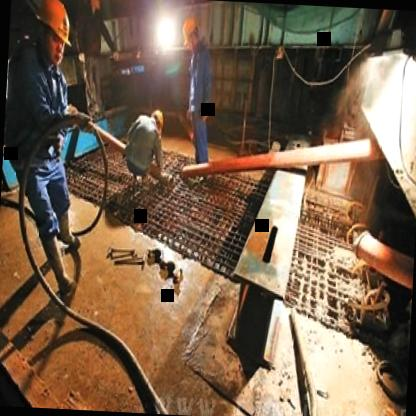helmet: (32, 0, 74, 67), (178, 12, 201, 56), (148, 107, 166, 136), (86, 0, 101, 11)
